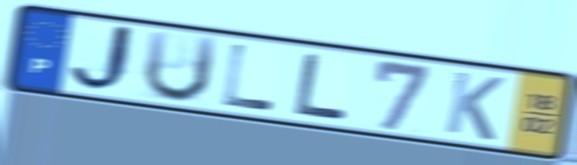7: (370, 56, 435, 134)
J: (67, 23, 145, 94)
K: (441, 68, 508, 144)
L: (292, 50, 353, 122), (219, 41, 278, 113)
U: (139, 28, 221, 105)
